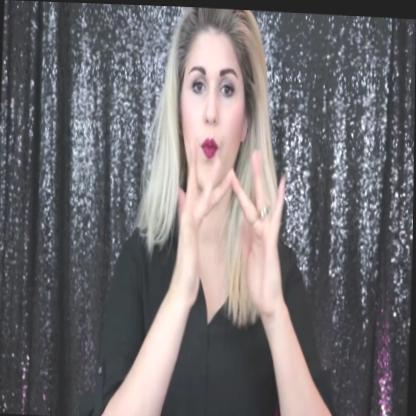Internet: (172, 130, 296, 322)
